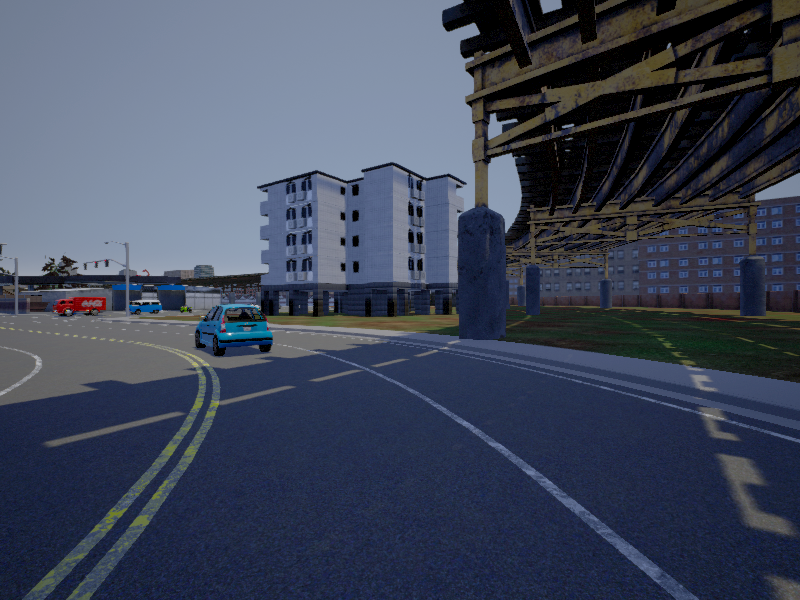Benign: (196, 305, 276, 355), (55, 297, 107, 317), (127, 299, 164, 315)
